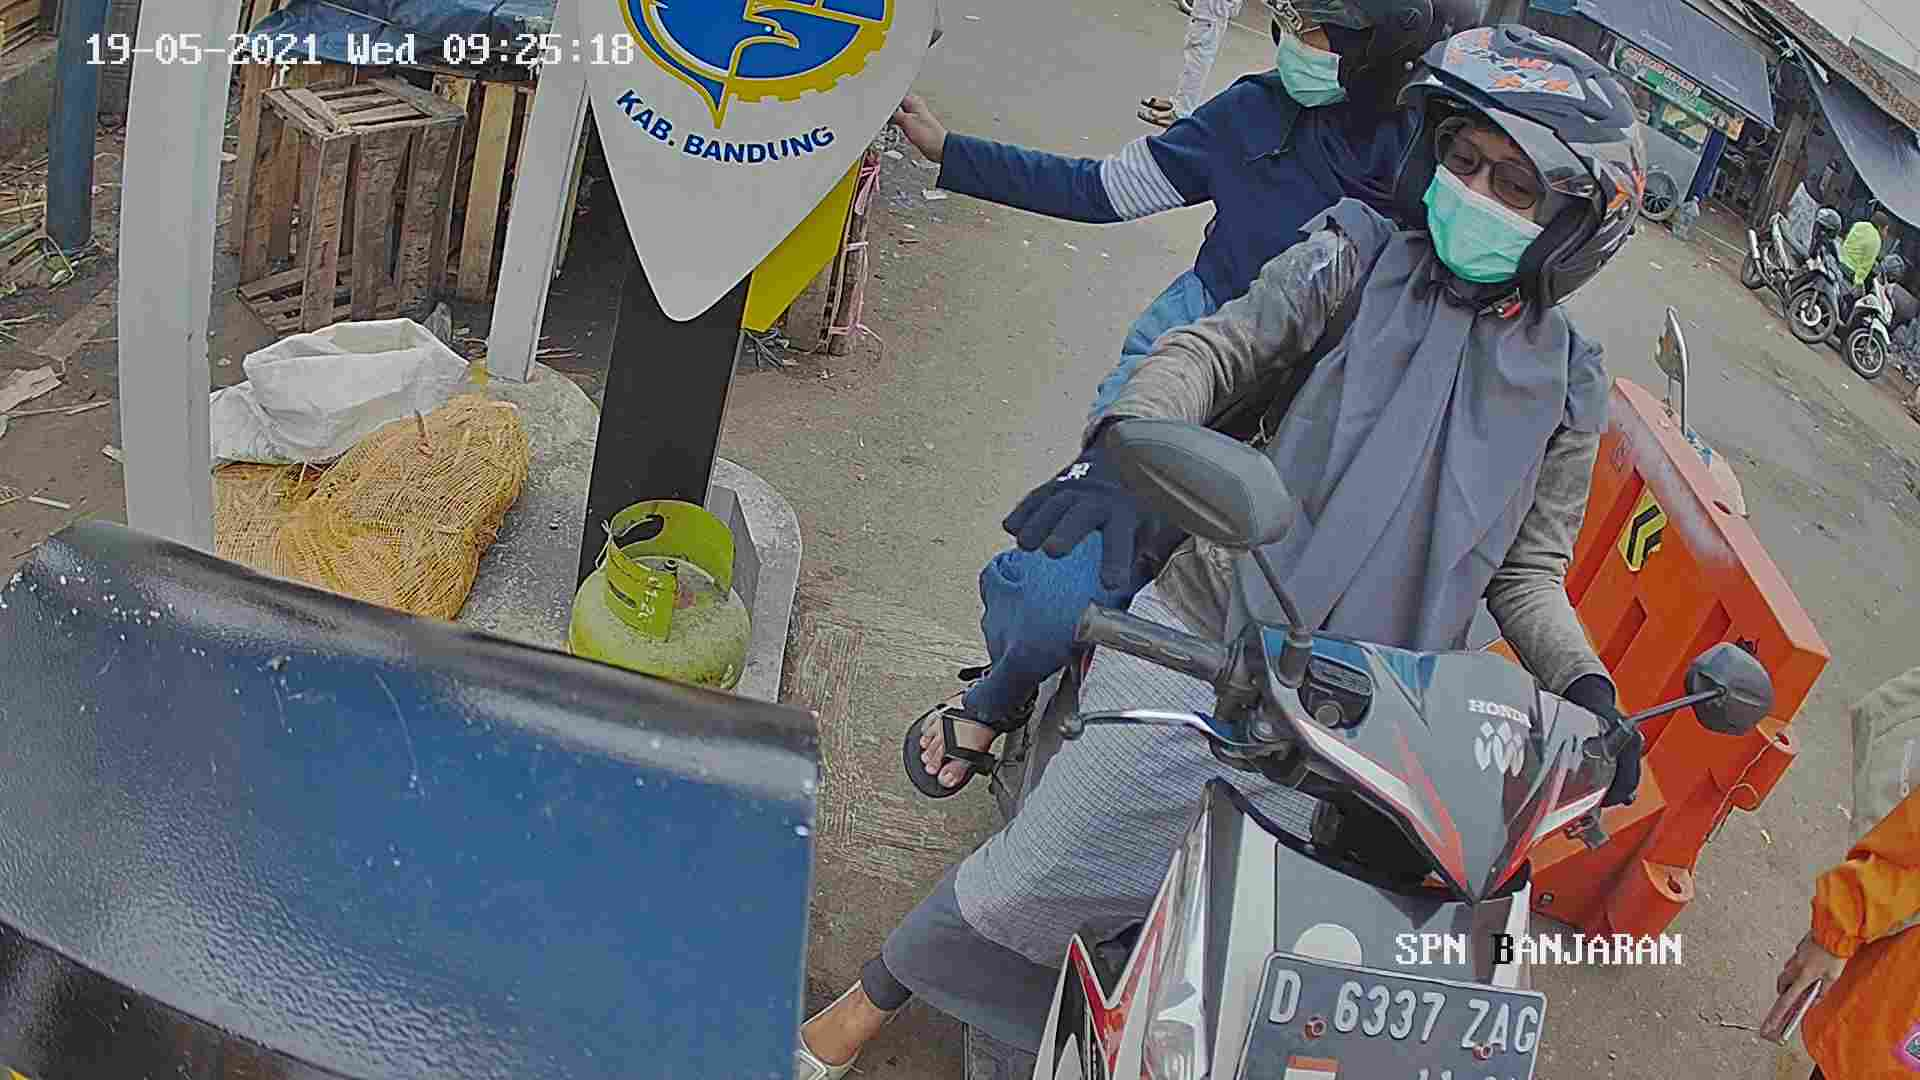motor: (1025, 612, 1633, 1080)
